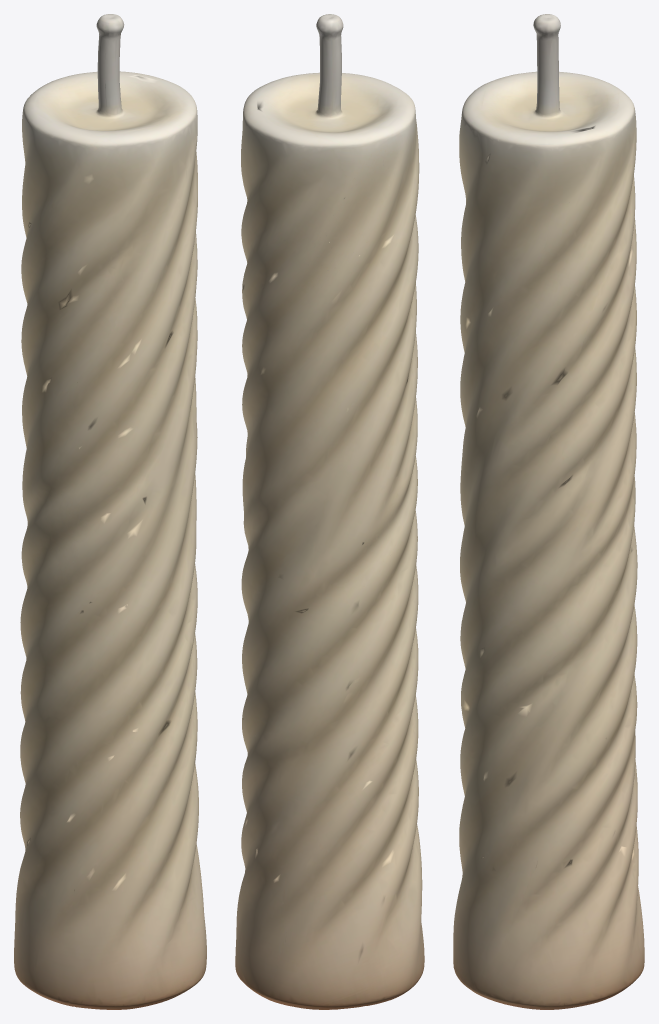
File: candle_model_opt.glb
3 renders of one model, left to right at view 1: azimuth 30°, elevation 25°; view 2: azimuth 150°, elevation 25°; view 3: azimuth 270°, elevation 25°, orthographic.
Parts seen in each view (by area): view 1: node_0; view 2: node_0; view 3: node_0.
Boxes of the visible parts, <box> form: node_0: <box>14,14,206,1009</box>; node_0: <box>235,14,424,1009</box>; node_0: <box>453,14,644,1009</box>.
Bounding box in the file's own units: 0.2175 × 1.18 × 0.2148.
Materials: 1 (1 with a texture image).
